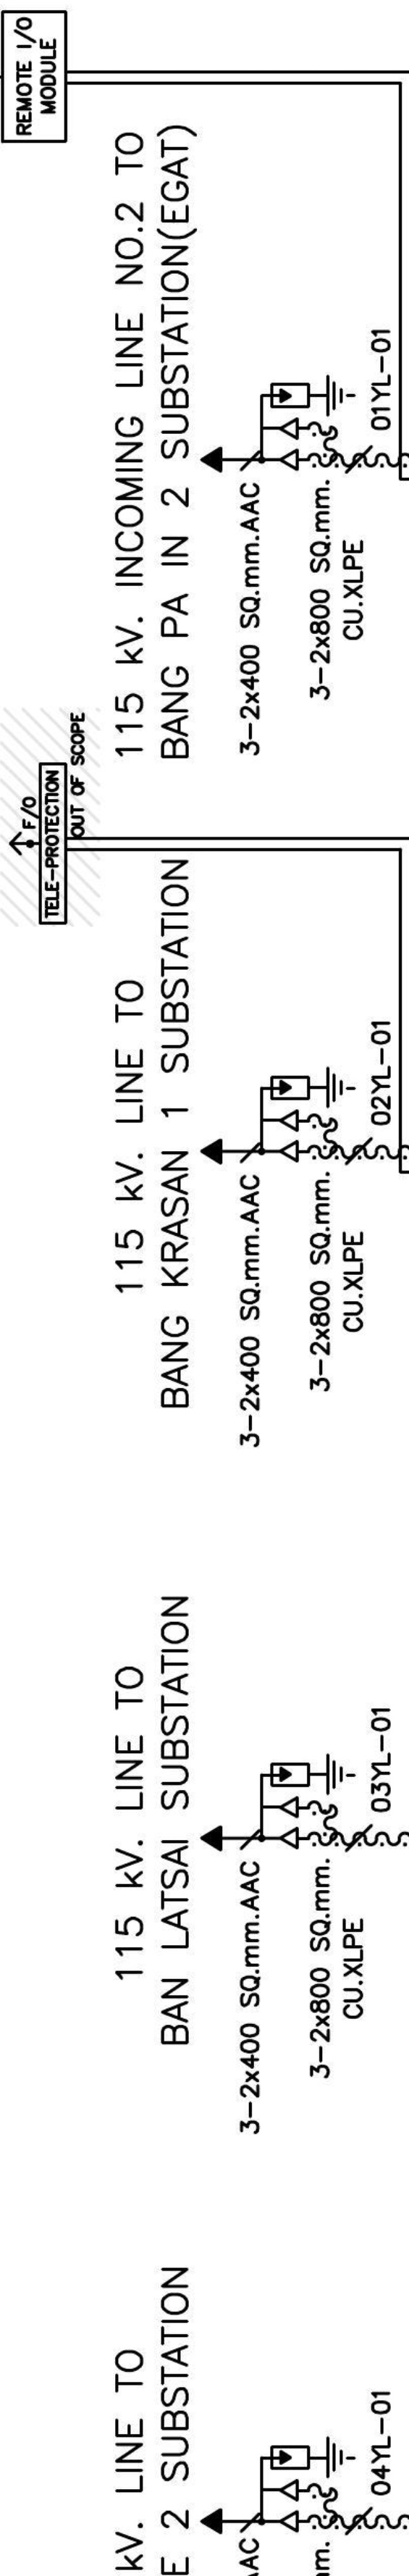115_la: (269, 2435, 356, 2479), (269, 1753, 356, 1796), (269, 1066, 356, 1109), (269, 375, 356, 417)
remote_io_module: (0, 10, 67, 143)
tele_protection: (38, 762, 69, 925)
terminator_double: (260, 1107, 301, 1165), (260, 1794, 299, 1852), (260, 2477, 299, 2533), (260, 416, 299, 472)
